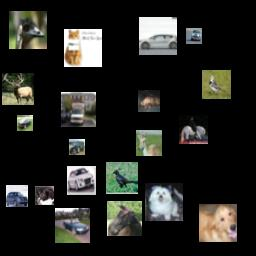automobile: (139, 17, 177, 55), (55, 208, 90, 243), (67, 166, 96, 195), (6, 185, 28, 207), (186, 28, 202, 44), (17, 115, 33, 131)
bird: (9, 11, 47, 49), (106, 162, 138, 194), (202, 70, 231, 99)
cat: (64, 29, 102, 67), (35, 186, 54, 205)
deer: (2, 73, 34, 105), (136, 130, 162, 156)
dog: (145, 183, 183, 221), (199, 204, 237, 242), (138, 90, 160, 112)
truck: (61, 92, 96, 127), (69, 139, 85, 155)
